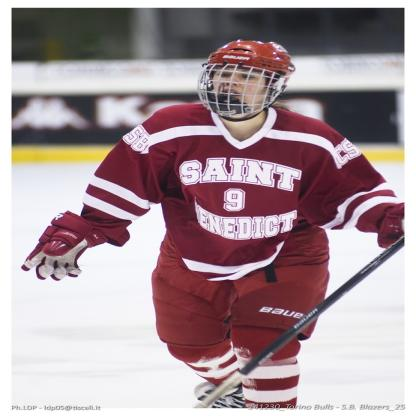Helmet: (196, 36, 296, 123)
